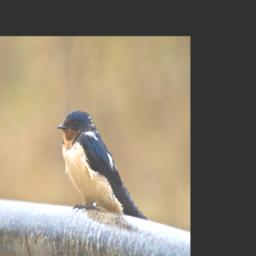Swallow: (56, 109, 147, 221)
